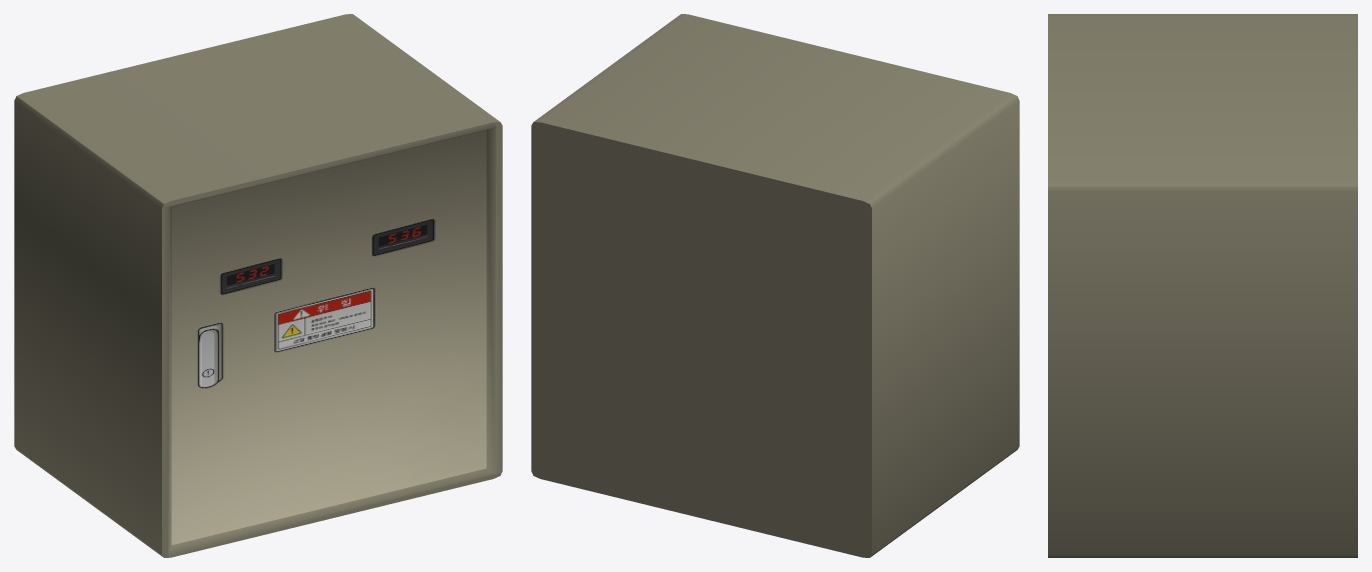
The picture shows the model from 3 angles, left to right: view 1: azimuth 30°, elevation 25°; view 2: azimuth 150°, elevation 25°; view 3: azimuth 270°, elevation 25°; orthographic projection. The views are drawn at different scales.
Parts seen in each view (by area): view 1: RM1-WH02W020D015; view 2: RM1-WH02W020D015; view 3: RM1-WH02W020D015.
Part boxes in pixels (left/top/right/bottom): RM1-WH02W020D015: left=14, top=14, right=502, bottom=557; RM1-WH02W020D015: left=531, top=14, right=1019, bottom=557; RM1-WH02W020D015: left=1048, top=14, right=1357, bottom=557.
Size of the model in its own units: 0.2 by 0.2 by 0.15.
Materials: 2 (1 with a texture image).
